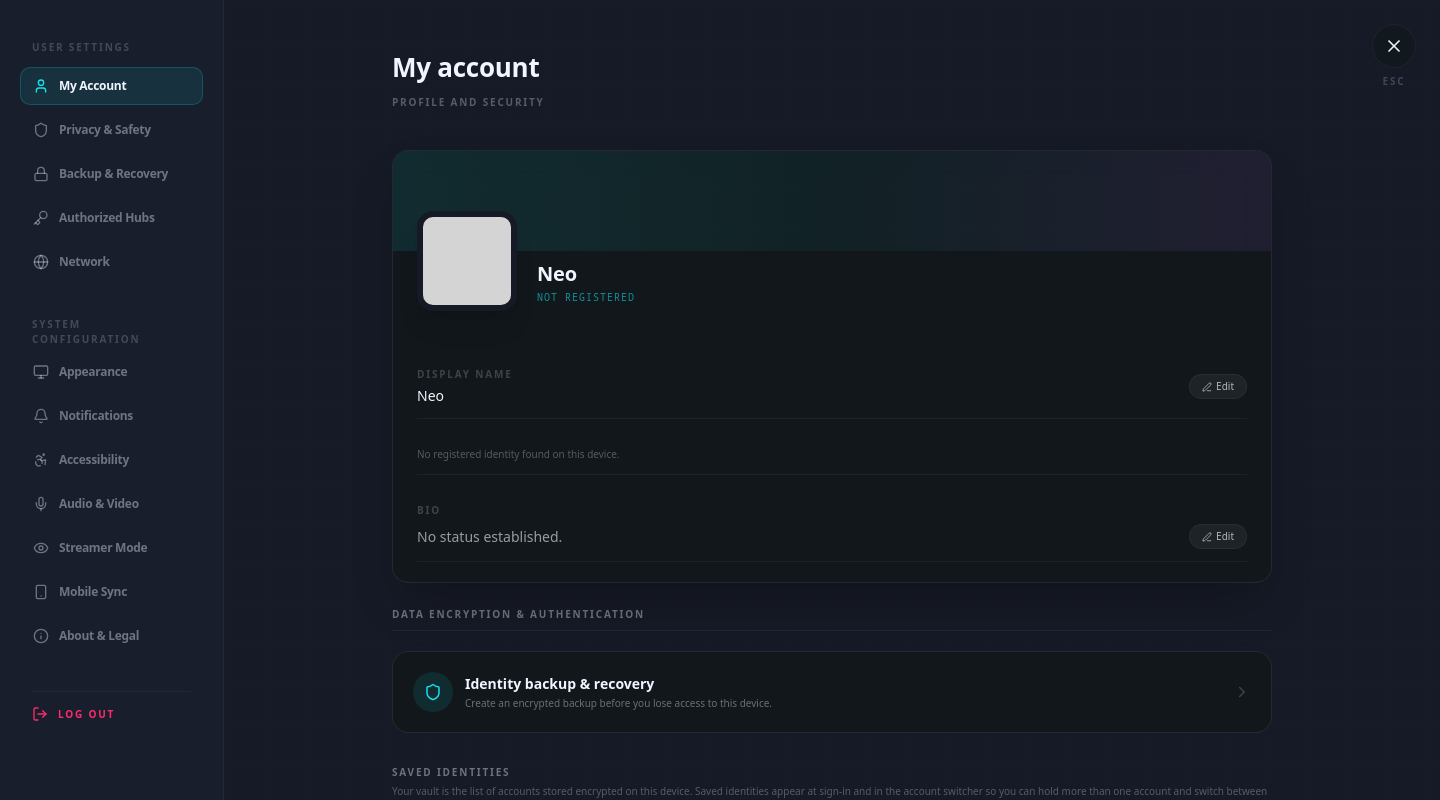
Scenario: SettingsScreen About & Legal › saves presence visibility through xorein
Click the button "Privacy & Safety". click: (112, 130)
box: [20, 111, 203, 149]
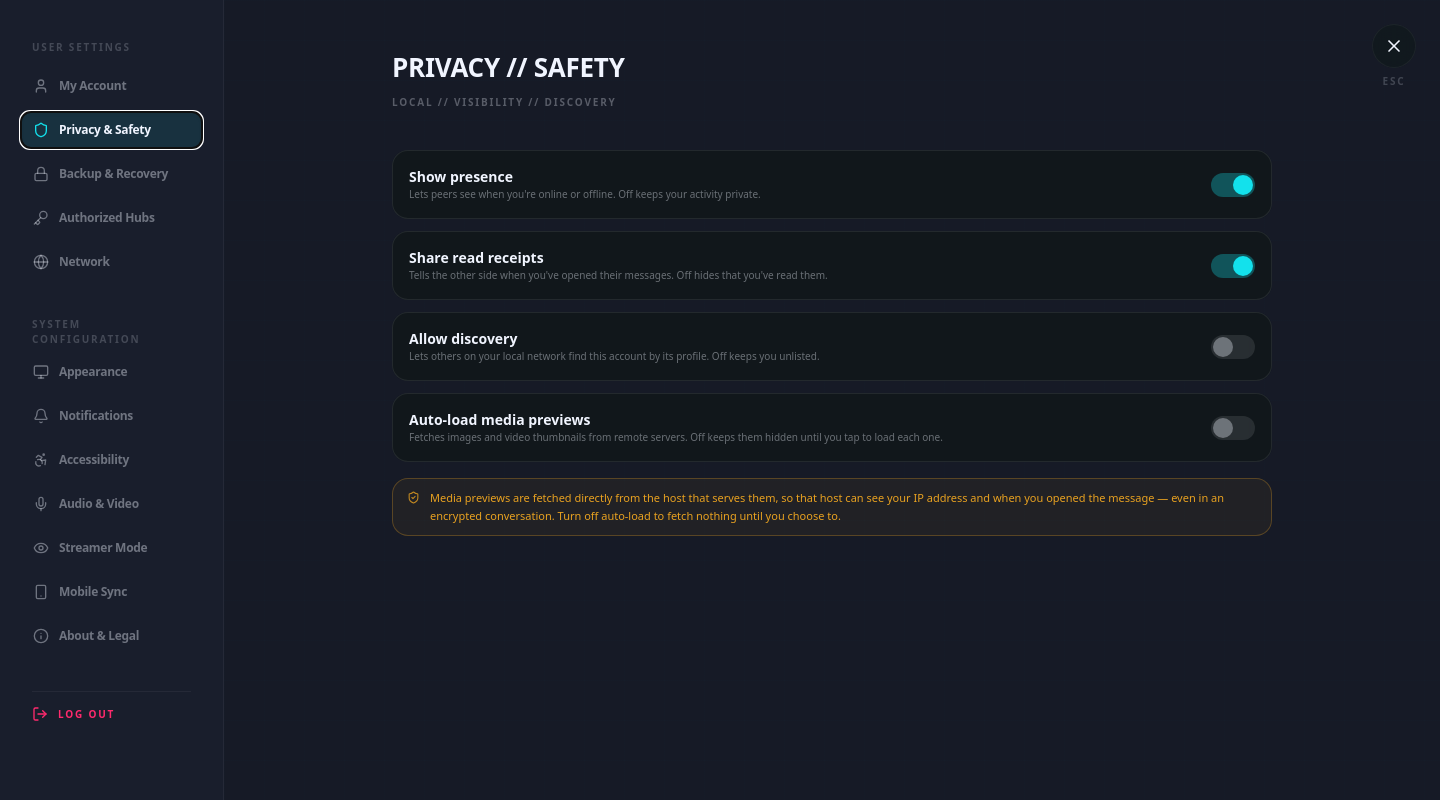
Click the button named "show presence". click: (1233, 184)
box: [1211, 172, 1255, 196]
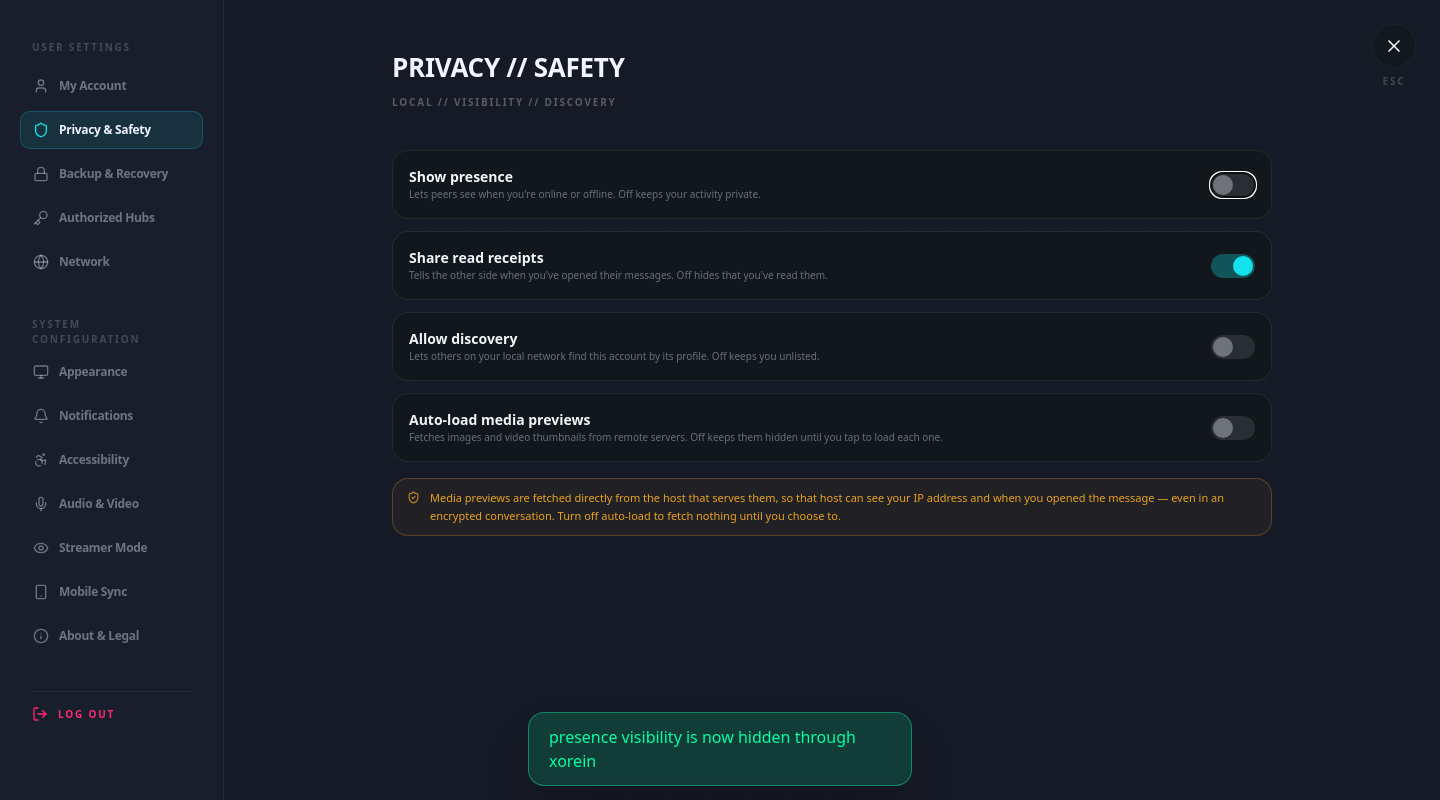
Now the text "presence visibility is now hidden through xorein" is shown, box [528, 712, 912, 786]
